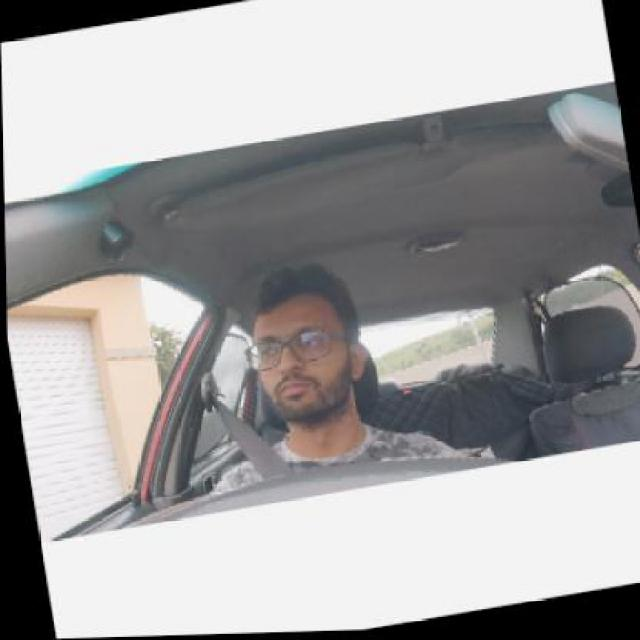person: (242, 255, 378, 437)
